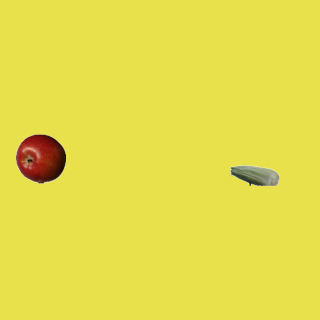Apple Braeburn: (15, 133, 65, 183)
Corn Husk: (229, 150, 279, 200)
